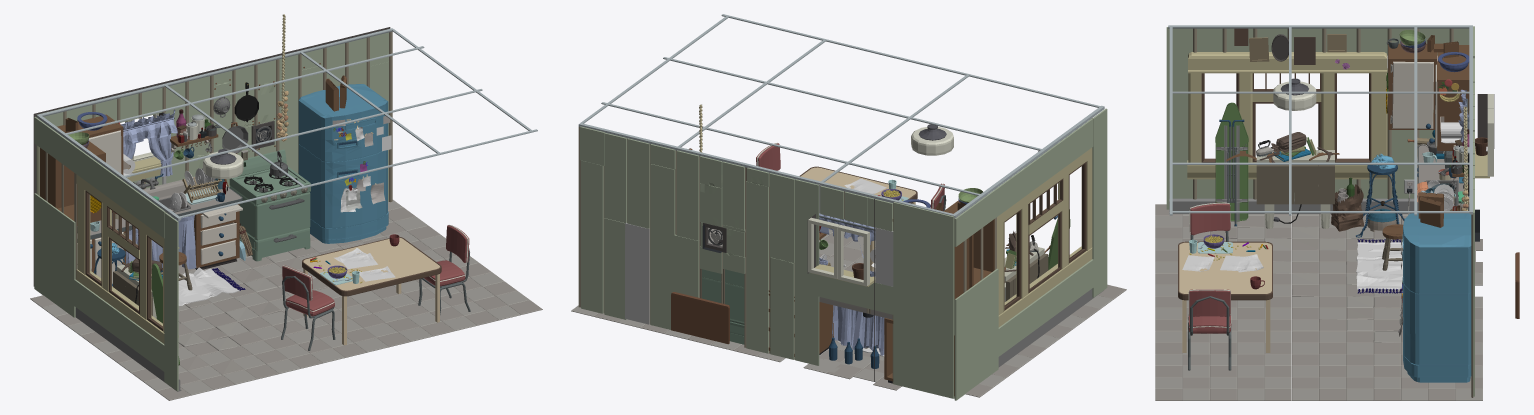
The model's file is kitchen.glb.
The picture shows the model from 3 angles, left to right: view 1: azimuth 30°, elevation 25°; view 2: azimuth 150°, elevation 25°; view 3: azimuth 270°, elevation 25°; orthographic projection. The views are drawn at different scales.
Visible parts, largest first — view 1: pCube251; view 2: pCube251; view 3: pCube251.
Part boxes in pixels (x1,y1,x2,y2): pCube251: (30,14,542,400); pCube251: (571,14,1126,400); pCube251: (1155,25,1519,400).
Bounding box in the file's own units: 5.85 × 3.2 × 4.49.
